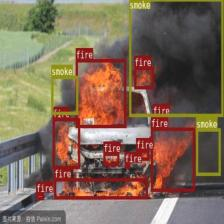fire: (75, 59, 126, 127), (150, 127, 194, 191), (54, 178, 147, 198), (52, 118, 80, 168), (134, 66, 153, 88), (103, 153, 119, 165), (136, 149, 148, 160), (152, 115, 160, 126), (36, 192, 43, 199), (124, 163, 130, 167)
smoke: (129, 0, 223, 116), (196, 128, 220, 175), (51, 76, 78, 114)
